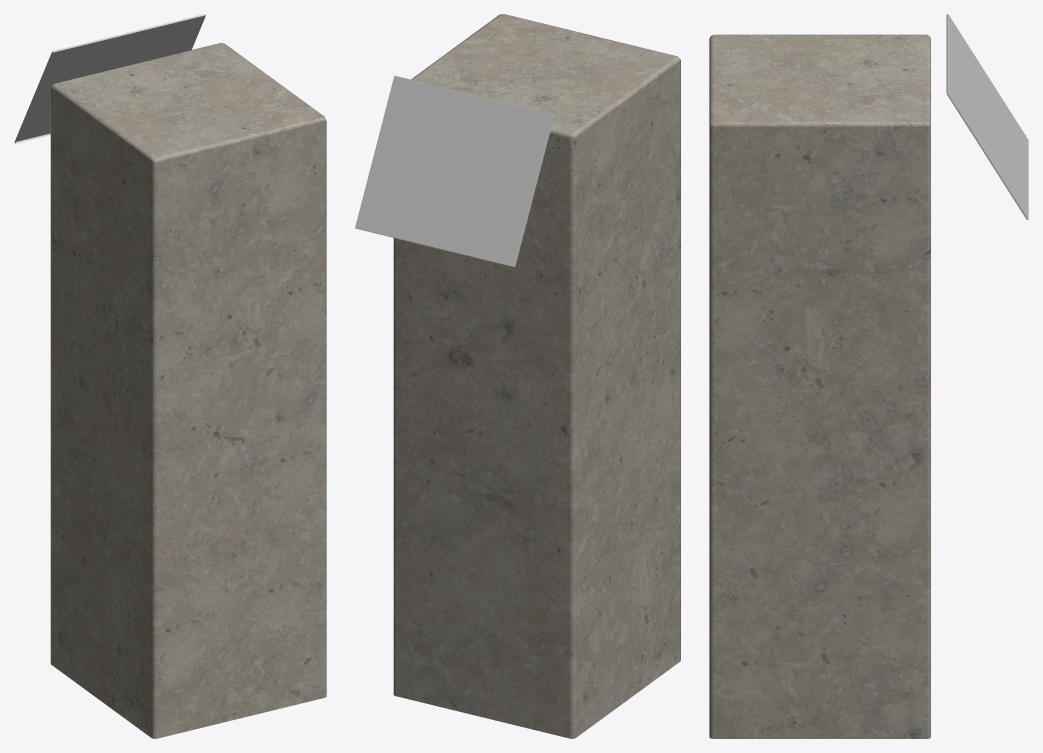
The model's file is Stands_orignal.fbx.
3 views of the same model, side by side, from view 1: azimuth 30°, elevation 25°; view 2: azimuth 150°, elevation 25°; view 3: azimuth 270°, elevation 25° (orthographic). The views are drawn at different scales.
Parts seen in each view (by area): view 1: pCube11, pCube21; view 2: pCube11, pCube21; view 3: pCube11, pCube21.
Boxes of the visible parts, x1,y1,x2,y2 form: pCube11: (50,43,326,738); pCube21: (14,14,205,143); pCube11: (393,14,680,738); pCube21: (355,75,554,267); pCube11: (709,34,930,738); pCube21: (946,14,1028,219).
Bounding box in the file's own units: 394 × 1303 × 588.
